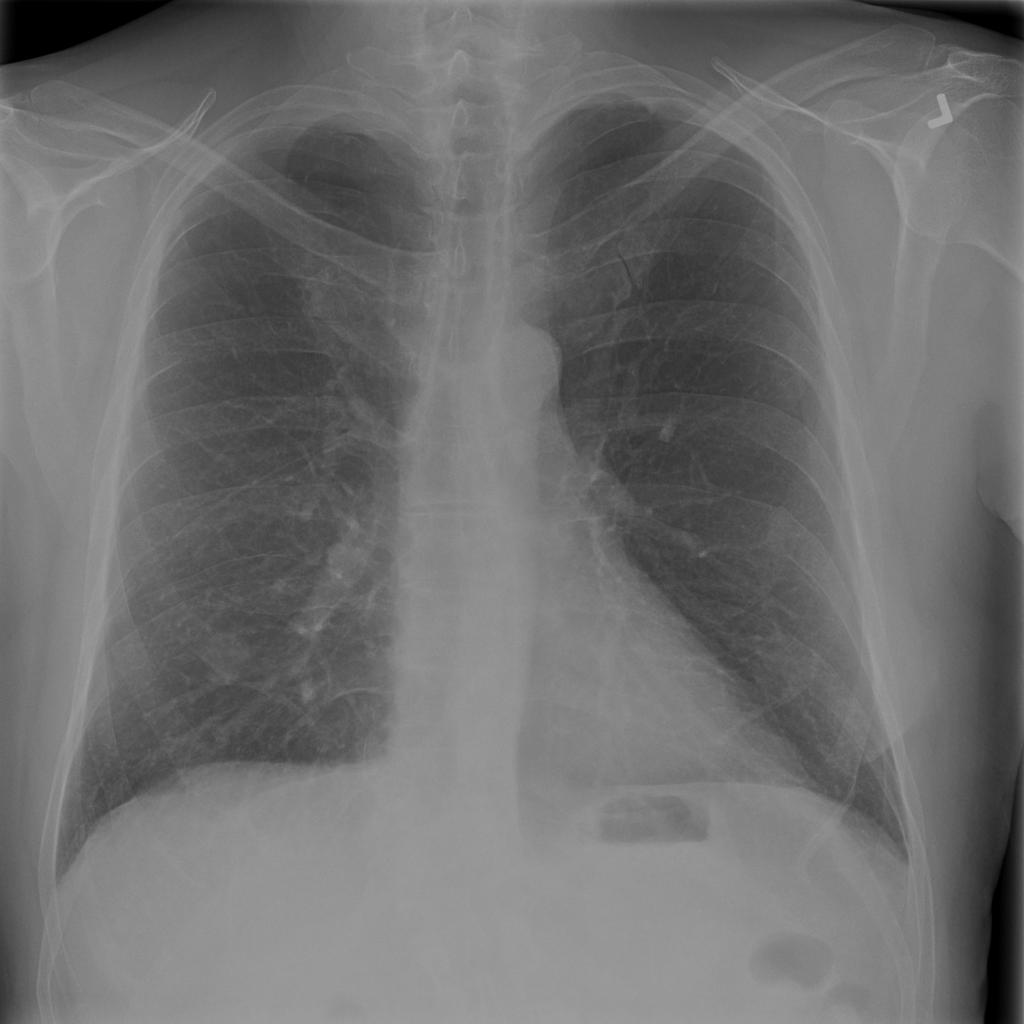nodule: (188, 618, 266, 688)
